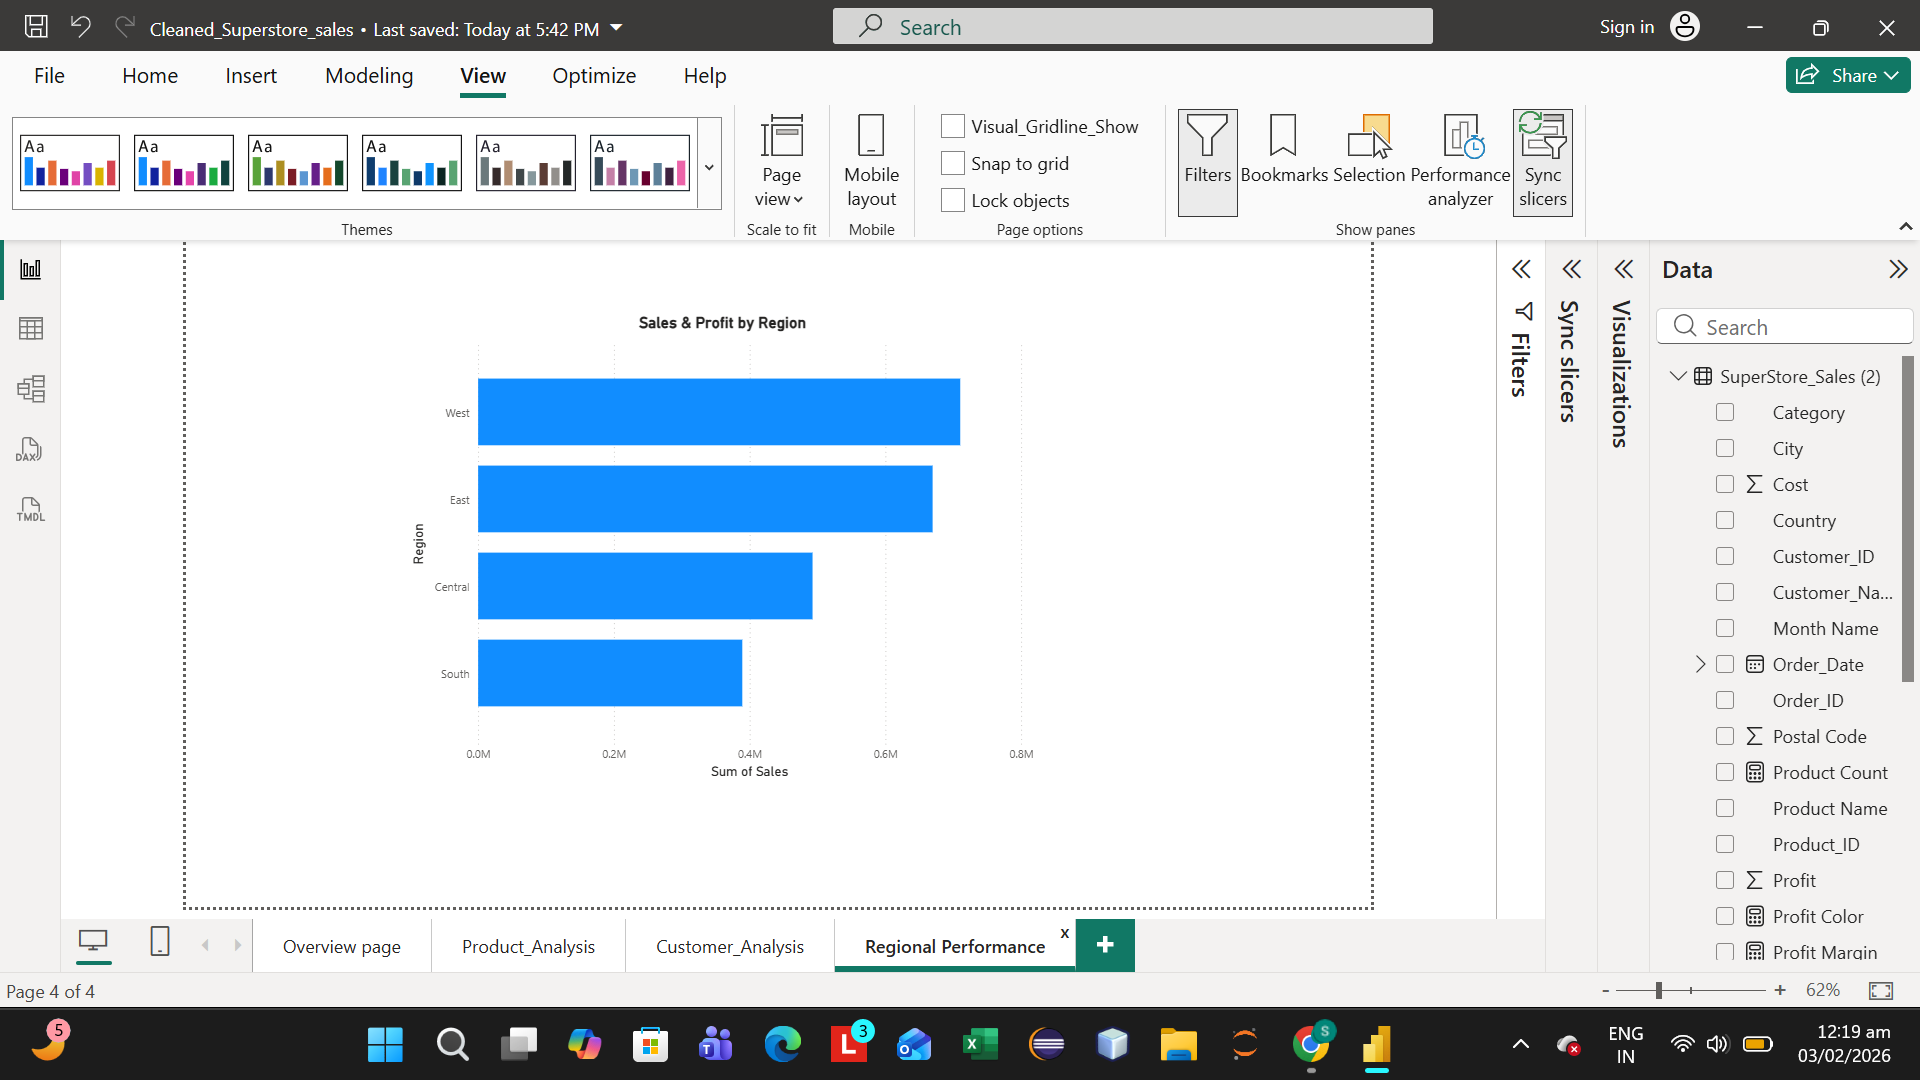

What the dashboard file says about the page in this screenshot:
{"tool":"powerbi","page":{"name":"Regional Performance","canvas":[1280,720],"ordinal":3},"visuals":[{"type":"clusteredBarChart","title":"Sales & Profit by Region","fields":{"Category":["SuperStore_Sales (2).Region"],"Y":["Sum(SuperStore_Sales (2).Sales)"]},"box":[238.1,79.4,682.2,506.5],"z":0}]}

Visuals, with their boxes on the page's 1280x720 design canvas (x1, y1, x2, y2). These are canvas units, not pixel positions in the 1920x1080 screenshot, which may show the page scaled, cropped or inside an application window:
"Sales & Profit by Region" clusteredBarChart: 238,79,920,586
